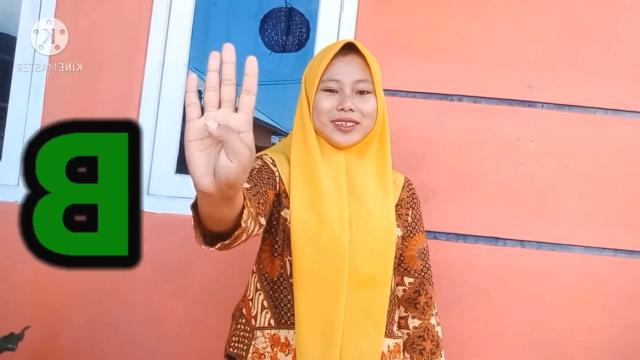B: (184, 43, 258, 202)
